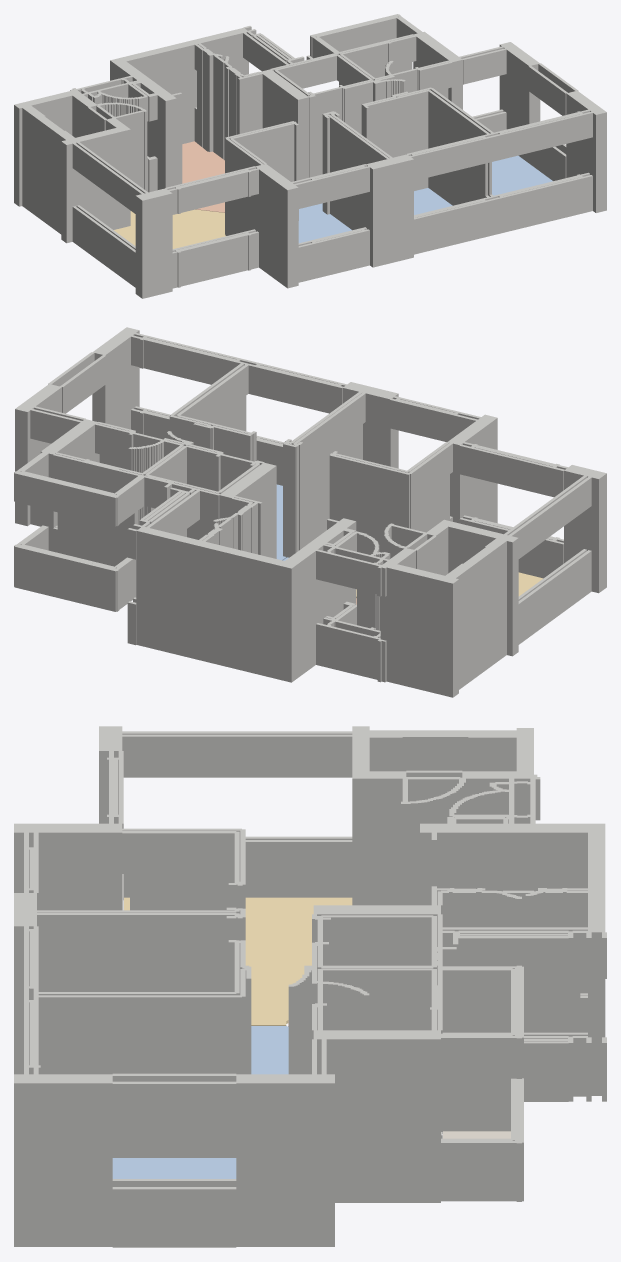
3 renders of one model, top to bottom at view 1: azimuth 30°, elevation 25°; view 2: azimuth 150°, elevation 25°; view 3: azimuth 270°, elevation 25°, orthographic. The views are drawn at different scales.
Parts seen in each view (by area): view 1: walls, room:living:7, room:bedroom:3, room:kitchen:0, room:bedroom:2, room:bedroom:4; view 2: walls, room:bedroom:4; view 3: walls, room:living:7, room:bedroom:3, room:bedroom:2.
Part boxes in pixels (left/top/right/bottom): walls: left=14, top=14, right=606, bottom=298; room:living:7: left=114, top=209, right=225, bottom=248; room:bedroom:3: left=492, top=155, right=552, bottom=195; room:kitchen:0: left=182, top=141, right=224, bottom=212; room:bedroom:2: left=298, top=203, right=351, bottom=243; room:bedroom:4: left=414, top=188, right=452, bottom=214; walls: left=14, top=327, right=606, bottom=697; room:bedroom:4: left=276, top=484, right=286, bottom=560; walls: left=14, top=726, right=606, bottom=1247; room:living:7: left=124, top=897, right=352, bottom=1025; room:bedroom:3: left=112, top=1158, right=236, bottom=1178; room:bedroom:2: left=251, top=1026, right=288, bottom=1074.
Bounding box in the file's own units: 13.12 × 2.8 × 9.2.
